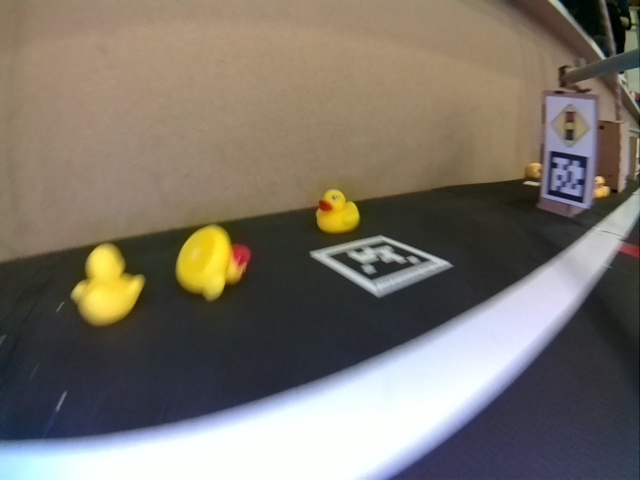Duckie: (72, 244, 144, 324), (176, 226, 248, 300), (316, 189, 359, 232), (594, 176, 610, 197), (526, 163, 543, 179)
QR code: (316, 237, 449, 293), (546, 151, 588, 201)
Signal sign: (549, 103, 590, 145)
